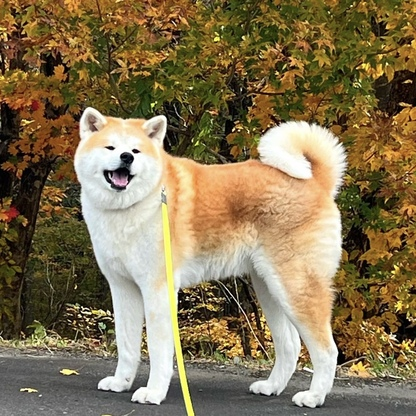akita: (67, 100, 354, 414)
